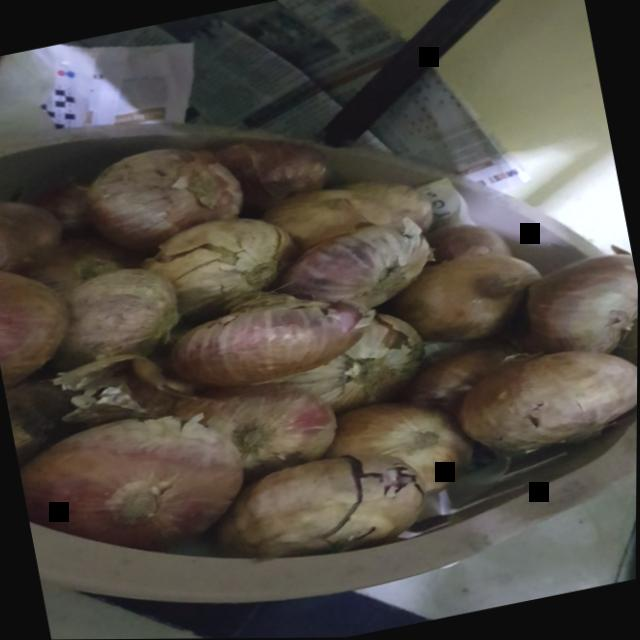onion: (12, 388, 257, 568), (229, 433, 437, 587), (445, 311, 638, 475), (181, 271, 376, 400), (139, 193, 315, 328), (76, 128, 261, 255), (178, 360, 350, 488), (327, 381, 484, 518), (406, 229, 564, 359), (54, 251, 199, 381), (510, 243, 639, 382), (276, 203, 429, 317)
